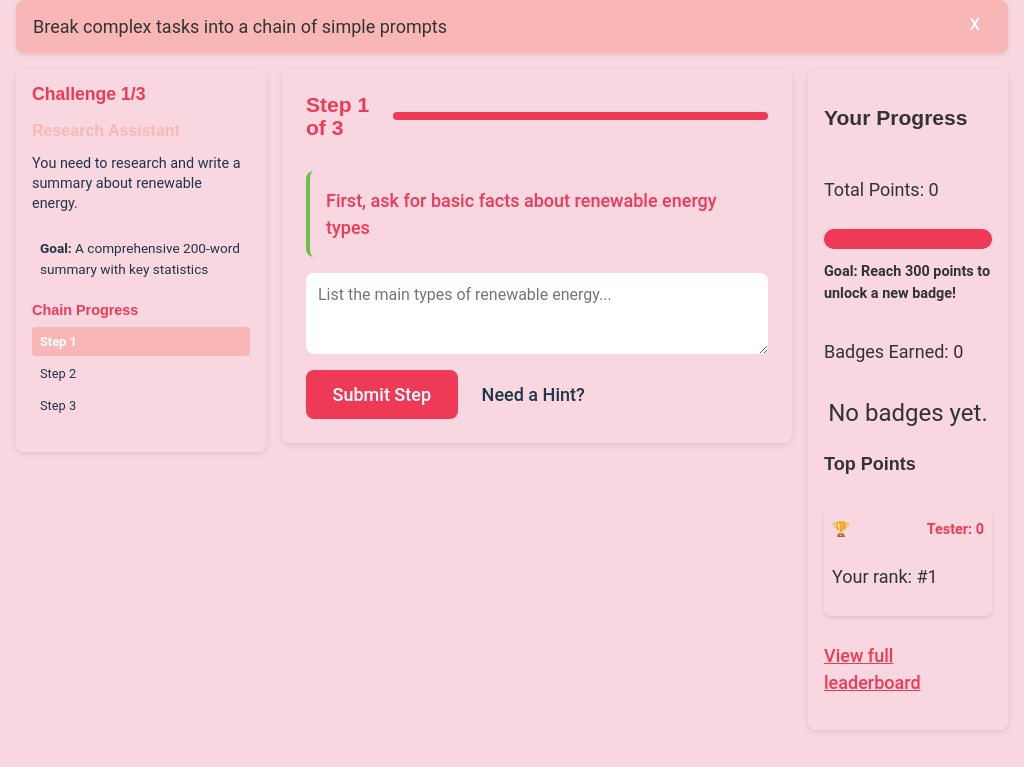
it: PromptChainGame › handles incorrect prompts appropriately
Type "wrong answer" into the text box.
click(537, 314); type("wrong answer")  # box [306,273,768,354]
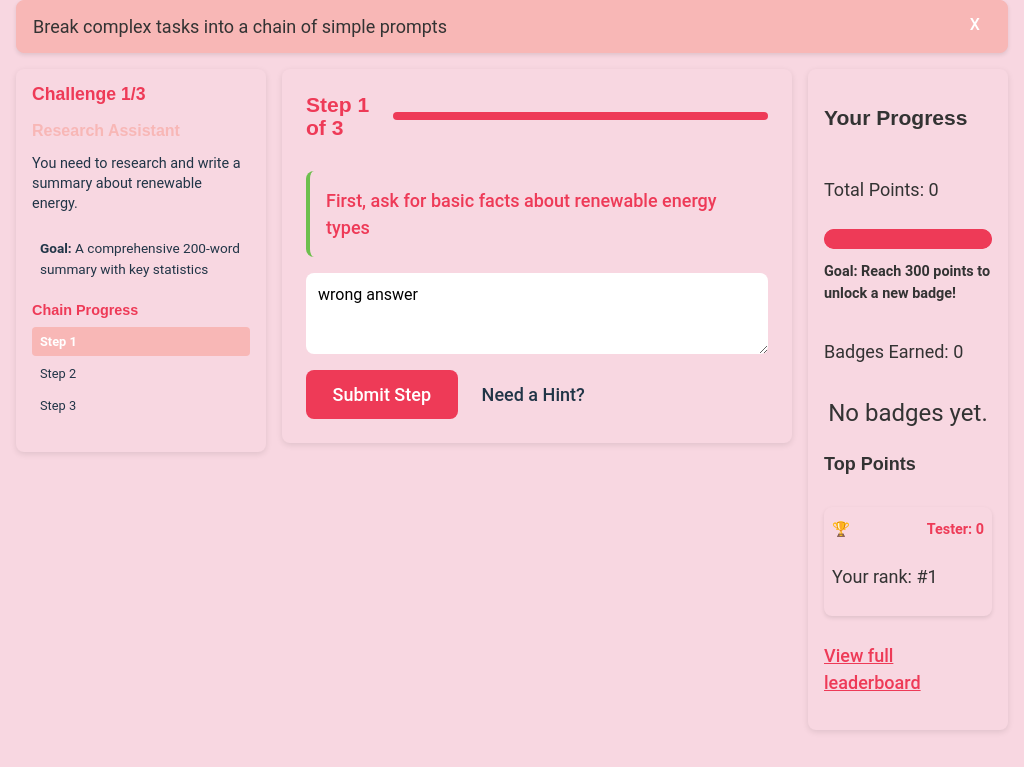
Click the button "Submit Step".
click(382, 395)  # box [306,370,458,419]
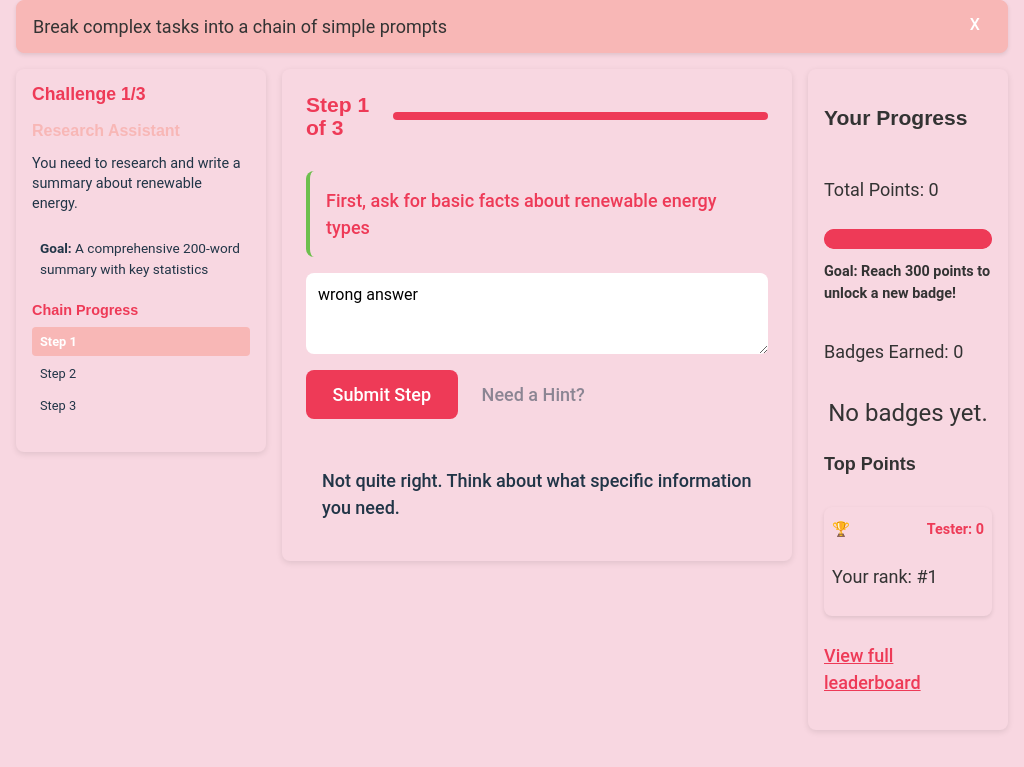
Result: the text "Not quite right" is shown at [322,470,752,518]
